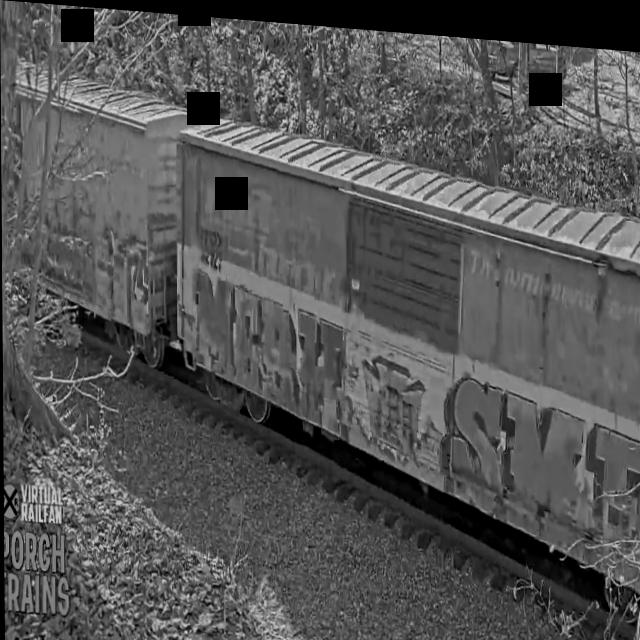boxcar: (173, 92, 640, 618)
